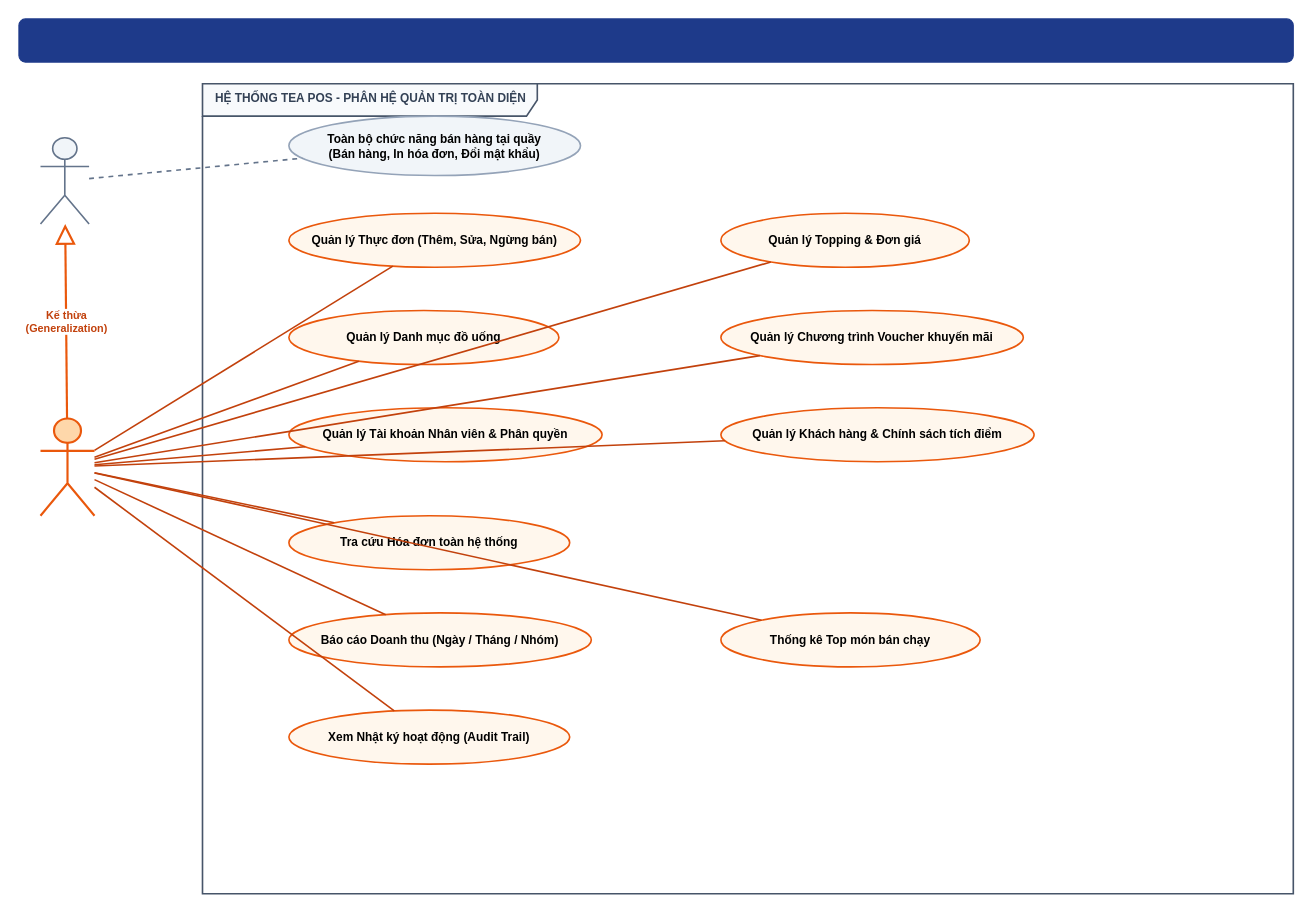
The diagram is 1313 pixels wide and 914 high, and some of its shapes have lost their labels. The shapes that lost their labels are listed below. From the top down, each one's centre as x and y in pixels, then its label:
At (x=655, y=40): "SƠ ĐỒ USE CASE CHI TIẾT TÁC NHÂN QUẢN LÝ (ADMIN)".
At (x=64, y=180): "Nhân viên (Thu ngân)".
At (x=67, y=466): "Quản lý (Admin)".
